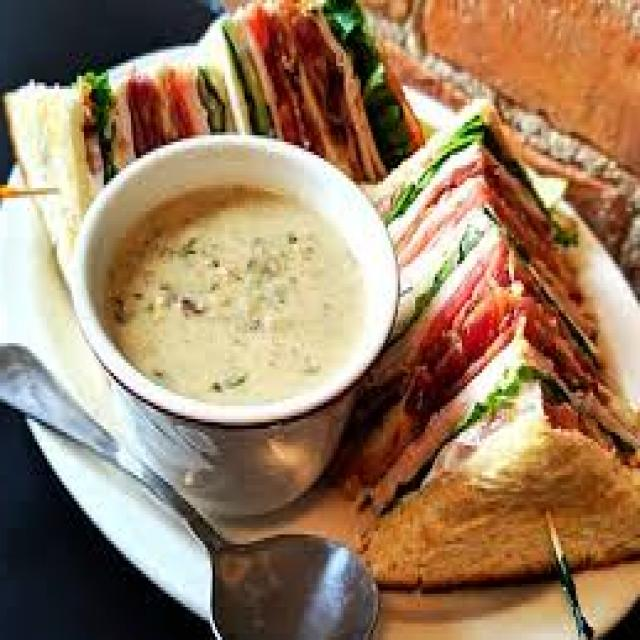Sandwich: (12, 3, 630, 600)
